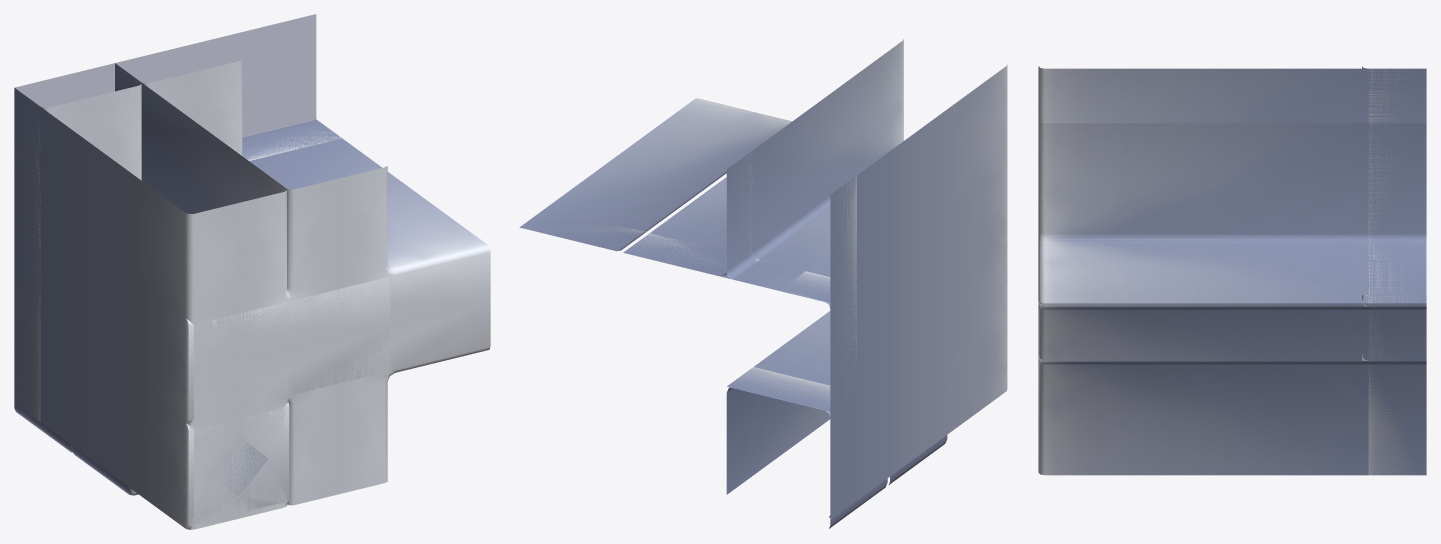
The model's file is fence_set.glb.
3 views of the same model, side by side, from view 1: azimuth 30°, elevation 25°; view 2: azimuth 150°, elevation 25°; view 3: azimuth 270°, elevation 25° (orthographic). The views are drawn at different scales.
Visible parts, largest first — view 1: rsrc.world.tileset.whitespace.fence_set-Variant[fence_high_3 (×2), rsrc.world.tileset.whitespace.fence_set-Variant[fence_high_4 (×3), rsrc.world.tileset.whitespace.fence_set-Variant[fence_low_3w, rsrc.world.tileset.whitespace.fence_set-Variant[fence_low_4w, rsrc.world.tileset.whitespace.fence_set-Variant[fence_high_L, rsrc.world.tileset.whitespace.fence_set-Variant[fence_high_b; view 2: rsrc.world.tileset.whitespace.fence_set-Variant[fence_high_3, rsrc.world.tileset.whitespace.fence_set-Variant[fence_high_4, rsrc.world.tileset.whitespace.fence_set-Variant[fence_high_L, rsrc.world.tileset.whitespace.fence_set-Variant[fence_high_b, rsrc.world.tileset.whitespace.fence_set-Variant[fence_low_3w, rsrc.world.tileset.whitespace.fence_set-Variant[fence_low_4w, rsrc.world.tileset.whitespace.fence_set-Variant[fence_low_fl, rsrc.world.tileset.whitespace.fence_set-Variant[fence_low_L_; view 3: rsrc.world.tileset.whitespace.fence_set-Variant[fence_high_4, rsrc.world.tileset.whitespace.fence_set-Variant[fence_high_3, rsrc.world.tileset.whitespace.fence_set-Variant[fence_low_4w, rsrc.world.tileset.whitespace.fence_set-Variant[fence_low_3w, rsrc.world.tileset.whitespace.fence_set-Variant[fence_high_b, rsrc.world.tileset.whitespace.fence_set-Variant[fence_high_c, rsrc.world.tileset.whitespace.fence_set-Variant[fence_high_L.
Boxes of the visible parts, <box> form: rsrc.world.tileset.whitespace.fence_set-Variant[fence_high_3 (×2): <box>14,38,389,529</box>; rsrc.world.tileset.whitespace.fence_set-Variant[fence_high_4 (×3): <box>15,14,490,529</box>; rsrc.world.tileset.whitespace.fence_set-Variant[fence_low_3w: <box>14,84,141,422</box>; rsrc.world.tileset.whitespace.fence_set-Variant[fence_low_4w: <box>115,60,341,160</box>; rsrc.world.tileset.whitespace.fence_set-Variant[fence_high_L: <box>19,277,389,529</box>; rsrc.world.tileset.whitespace.fence_set-Variant[fence_high_b: <box>186,405,289,527</box>; rsrc.world.tileset.whitespace.fence_set-Variant[fence_high_3: <box>623,64,1007,519</box>; rsrc.world.tileset.whitespace.fence_set-Variant[fence_high_4: <box>519,39,1007,494</box>; rsrc.world.tileset.whitespace.fence_set-Variant[fence_high_L: <box>624,177,830,308</box>; rsrc.world.tileset.whitespace.fence_set-Variant[fence_high_b: <box>727,311,830,411</box>; rsrc.world.tileset.whitespace.fence_set-Variant[fence_low_3w: <box>627,174,857,517</box>; rsrc.world.tileset.whitespace.fence_set-Variant[fence_low_4w: <box>520,149,830,493</box>; rsrc.world.tileset.whitespace.fence_set-Variant[fence_low_fl: <box>727,367,830,411</box>; rsrc.world.tileset.whitespace.fence_set-Variant[fence_low_L_: <box>623,234,833,504</box>; rsrc.world.tileset.whitespace.fence_set-Variant[fence_high_4: <box>1038,121,1426,475</box>; rsrc.world.tileset.whitespace.fence_set-Variant[fence_high_3: <box>1038,66,1426,360</box>; rsrc.world.tileset.whitespace.fence_set-Variant[fence_low_4w: <box>1362,121,1426,475</box>; rsrc.world.tileset.whitespace.fence_set-Variant[fence_low_3w: <box>1362,66,1426,360</box>; rsrc.world.tileset.whitespace.fence_set-Variant[fence_high_b: <box>1039,295,1426,304</box>; rsrc.world.tileset.whitespace.fence_set-Variant[fence_high_c: <box>1038,302,1426,360</box>; rsrc.world.tileset.whitespace.fence_set-Variant[fence_high_L: <box>1038,312,1207,360</box>.
Bounding box in the file's own units: 3 × 3.1 × 3.
Materials: 3 (3 with a texture image).
